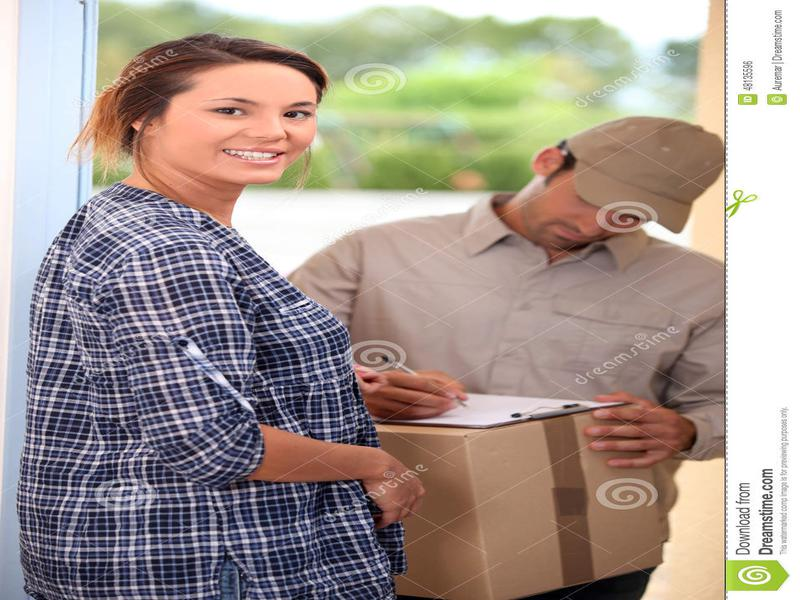package: (357, 359, 677, 590)
